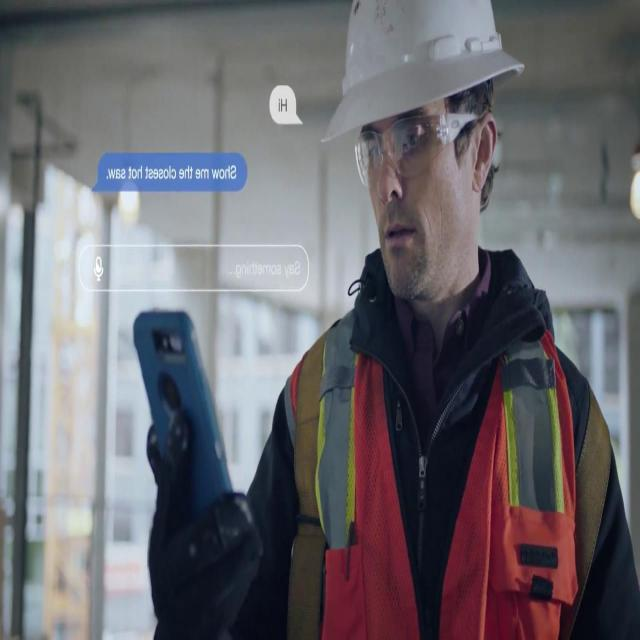Reflective-Jacket: (282, 269, 596, 632)
Safety-Helmet: (322, 0, 522, 158)
